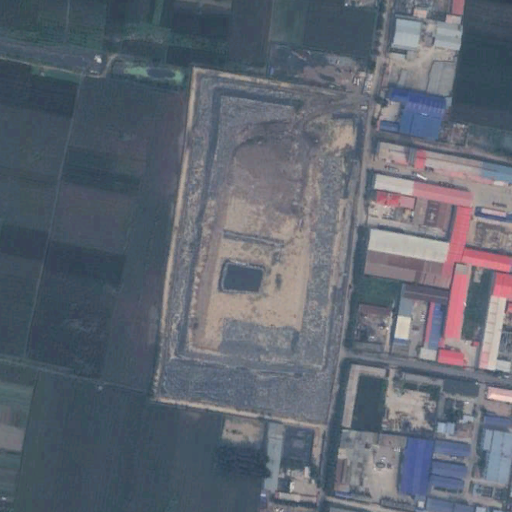lf: (156, 74, 368, 426)
